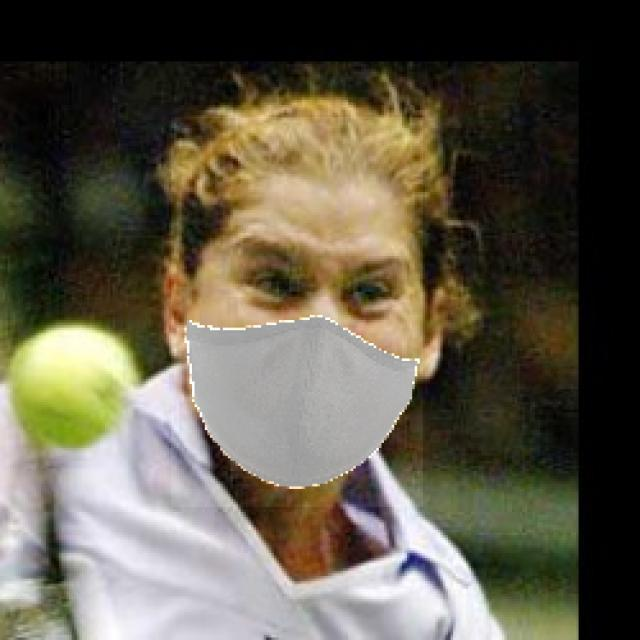cloth: (171, 117, 423, 507)
